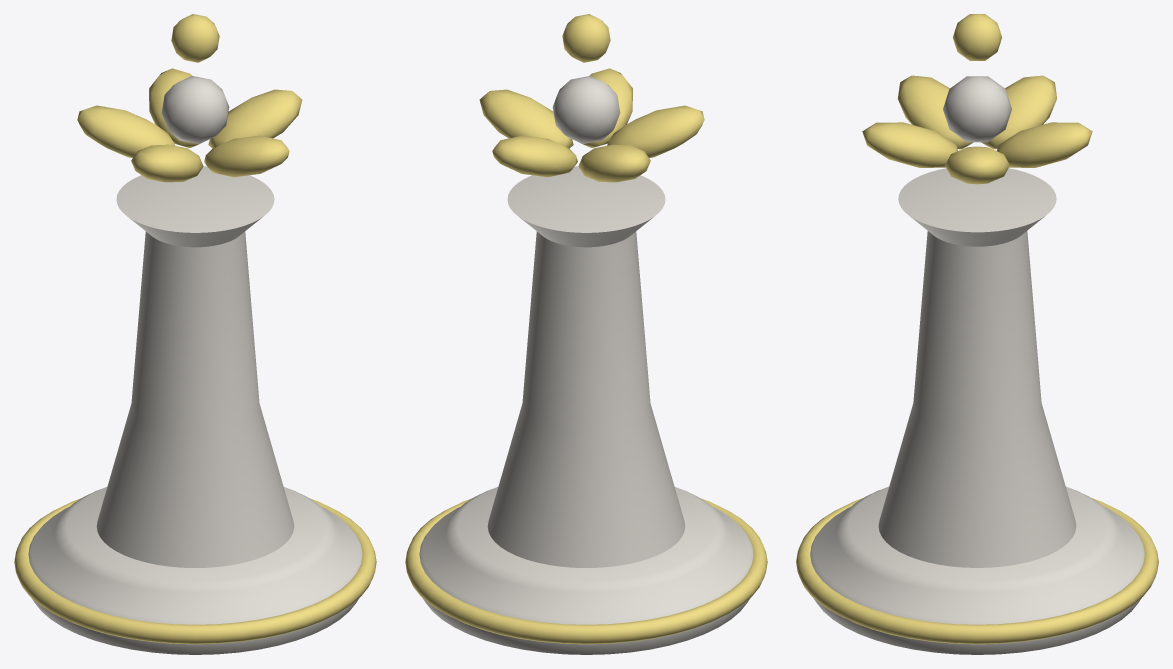
The model's file is Kioto_Dama.fbx.
3 renders of one model, left to right at view 1: azimuth 30°, elevation 25°; view 2: azimuth 150°, elevation 25°; view 3: azimuth 270°, elevation 25°, orthographic.
Visible parts, largest first — view 1: Kioto_Dama; view 2: Kioto_Dama; view 3: Kioto_Dama.
Part boxes in pixels (left/top/right/bottom): Kioto_Dama: left=14, top=14, right=376, bottom=654; Kioto_Dama: left=405, top=14, right=767, bottom=654; Kioto_Dama: left=796, top=14, right=1158, bottom=654.
Bounding box in the file's own units: 0.7335 × 1.27 × 0.7335.
